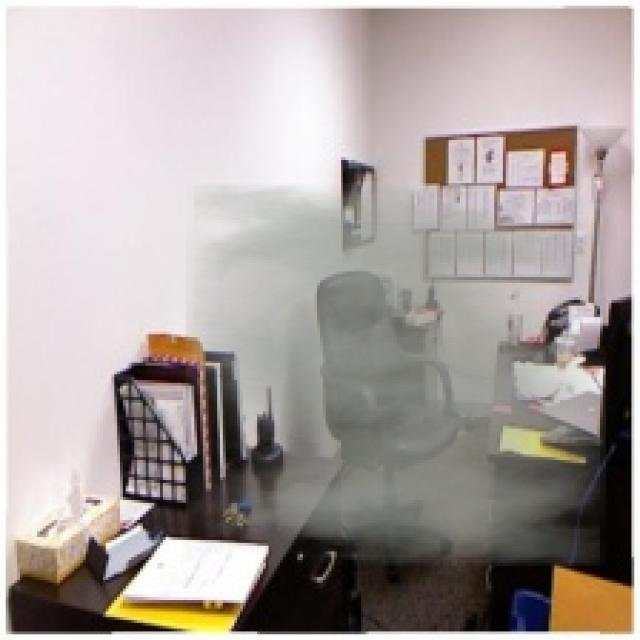smoke: (185, 183, 606, 566)
